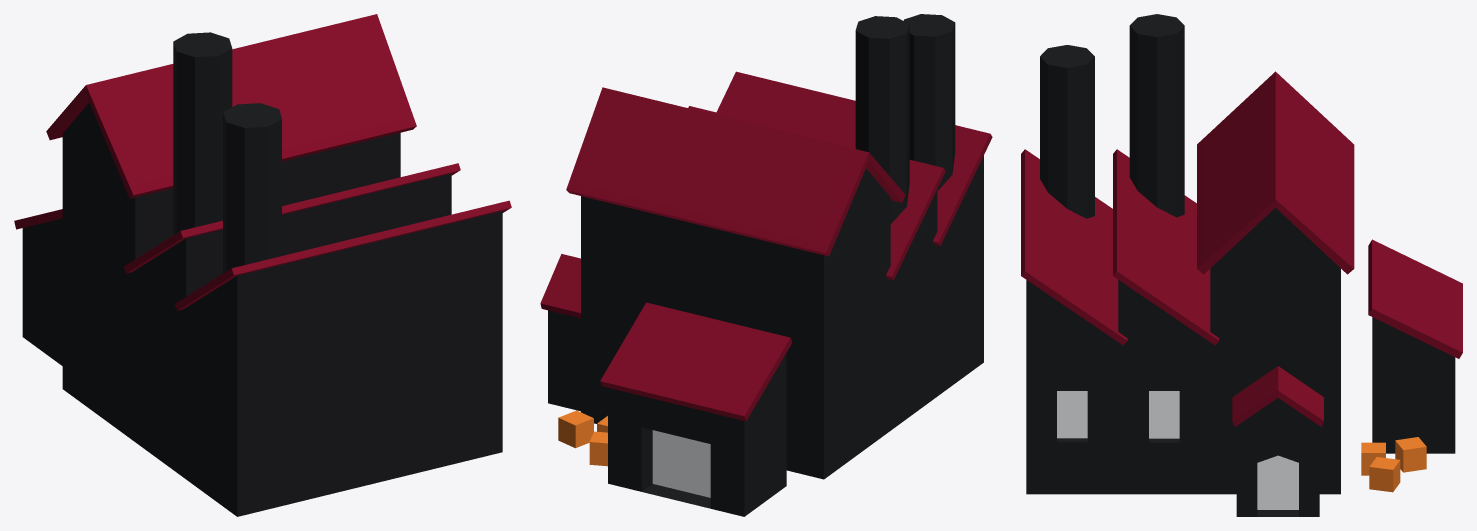
The model's file is Factory1.fbx.
3 views of the same model, side by side, from view 1: azimuth 30°, elevation 25°; view 2: azimuth 150°, elevation 25°; view 3: azimuth 270°, elevation 25° (orthographic). The views are drawn at different scales.
Parts seen in each view (by area): view 1: Cube, Cylinder, Cylinder.001, Cube.002; view 2: Cube, Cube.002, Cylinder, Cylinder.001, Cube.001, Cube.005, Cube.004; view 3: Cube, Cube.002, Cube.001, Cylinder, Cylinder.001, Cube.005, Cube.004, Cube.003.
Part boxes in pixels (x1,y1,x2,y2): Cube: [46, 14, 511, 516]; Cylinder: [173, 32, 232, 235]; Cylinder.001: [223, 103, 281, 273]; Cube.002: [14, 209, 62, 365]; Cube: [566, 71, 992, 479]; Cube.002: [600, 302, 792, 516]; Cylinder: [855, 16, 909, 224]; Cylinder.001: [903, 14, 955, 190]; Cube.001: [540, 254, 580, 411]; Cube.005: [558, 410, 593, 448]; Cube.004: [589, 431, 607, 466]; Cube: [1021, 71, 1354, 494]; Cube.002: [1368, 239, 1462, 453]; Cube.001: [1232, 366, 1323, 516]; Cylinder: [1129, 14, 1184, 217]; Cylinder.001: [1040, 45, 1094, 218]; Cube.005: [1369, 457, 1400, 492]; Cube.004: [1395, 437, 1426, 472]; Cube.003: [1361, 442, 1385, 475].
Size of the model in its own units: 252 by 296 by 320.
